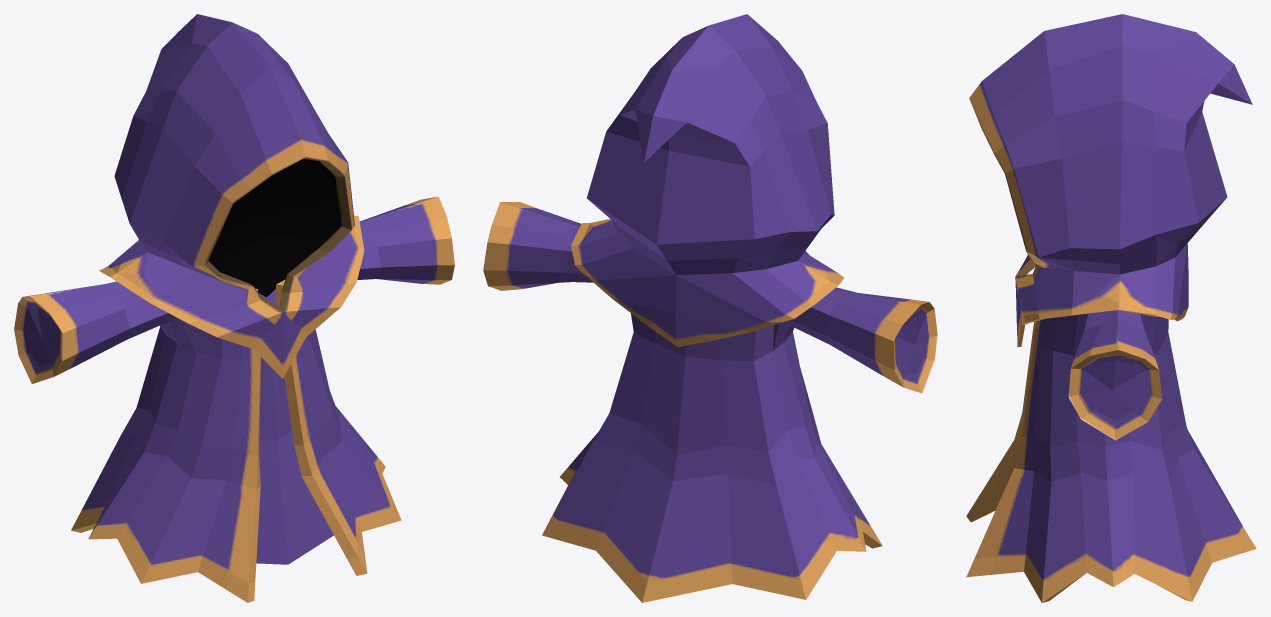
Rendered from MyWizard_Tri.fbx.
3 renders of one model, left to right at view 1: azimuth 30°, elevation 25°; view 2: azimuth 150°, elevation 25°; view 3: azimuth 270°, elevation 25°, orthographic. The views are drawn at different scales.
Parts seen in each view (by area): view 1: Robe, Head, Face, Body; view 2: Robe, Head; view 3: Head, Robe.
Boxes of the visible parts, left/top/right/bottom form: Robe: left=14, top=196, right=454, bottom=602; Head: left=99, top=14, right=364, bottom=378; Face: left=208, top=158, right=341, bottom=297; Body: left=256, top=290, right=333, bottom=564; Robe: left=483, top=202, right=937, bottom=602; Head: left=571, top=14, right=843, bottom=346; Head: left=969, top=14, right=1252, bottom=346; Robe: left=966, top=310, right=1256, bottom=602.
Size of the model in its own units: 153 by 184 by 90.3.
